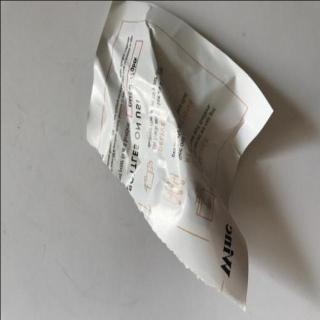Anorganik: (82, 0, 272, 312)
